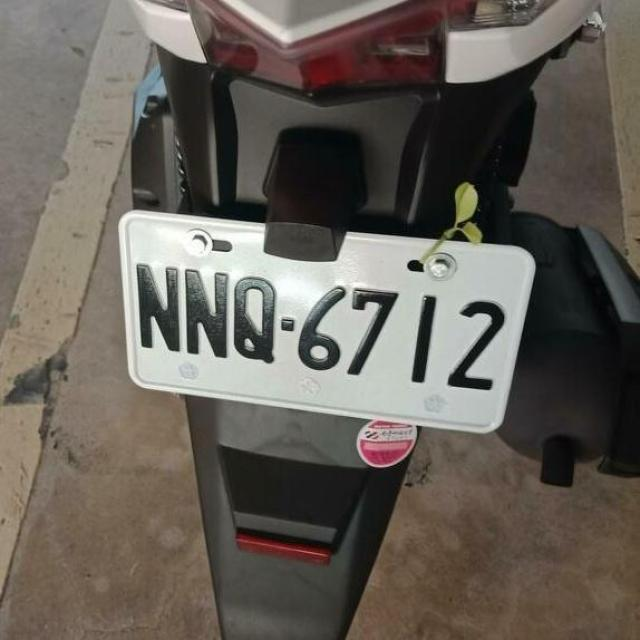W: (102, 202, 540, 455)
